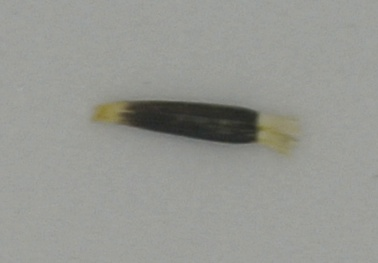เมล็ดดีติดกัน: (88, 96, 302, 158)
